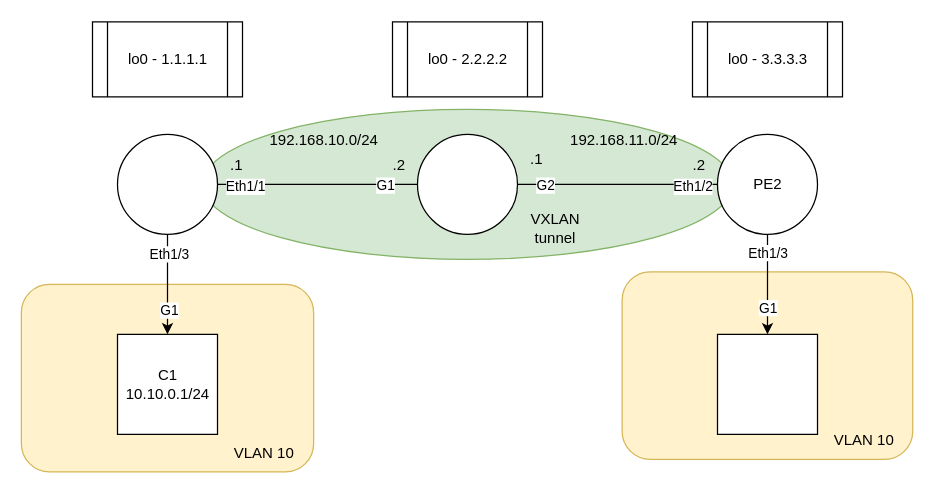
The diagram is 936 pixels wide and 494 high, and some of its shapes have lost their labels. Each missing label, with the centre of its shape:
C2 10.10.0.2/24: point (767, 383)
P1: point (467, 183)
PE1: point (167, 183)
